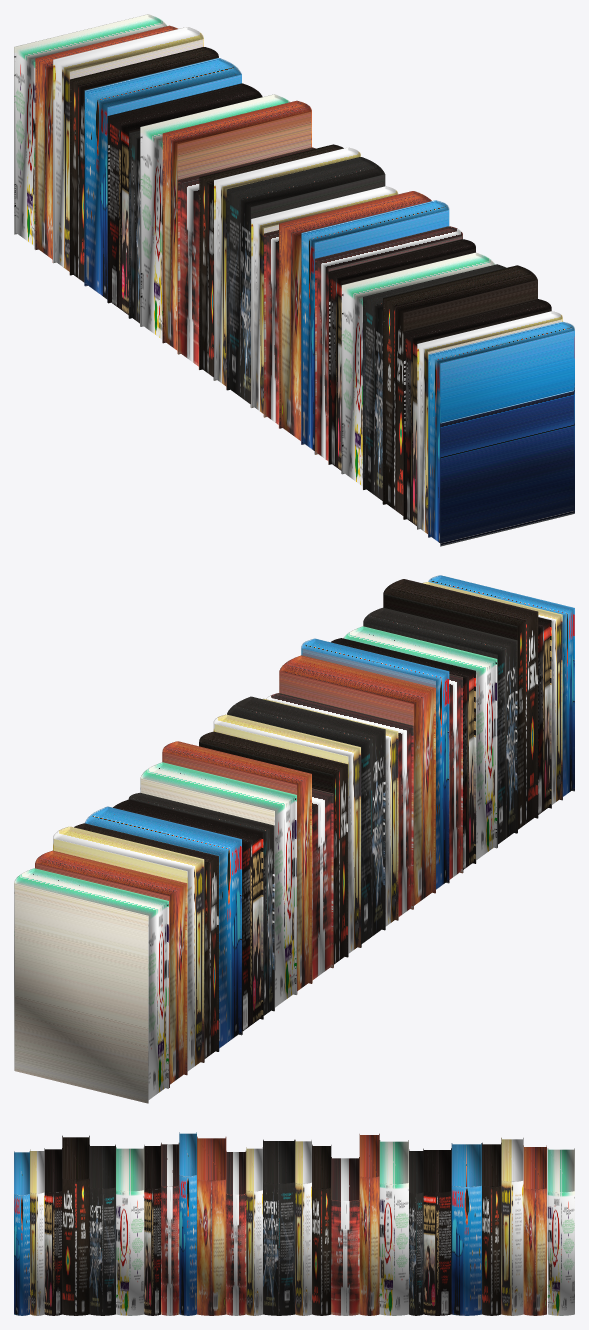
File: Books1.obj
3 views of the same model, one above another, from view 1: azimuth 30°, elevation 25°; view 2: azimuth 150°, elevation 25°; view 3: azimuth 270°, elevation 25° (orthographic). The views are drawn at different scales.
Parts seen in each view (by area): view 1: Rectangle55, Rectangle42, Rectangle61, Rectangle56, Rectangle51, Rectangle49, Rectangle54, Rectangle60, Rectangle48, Rectangle46, Rectangle41, Rectangle59 (+13 smaller); view 2: Rectangle41, Rectangle54, Rectangle59, Rectangle56, Rectangle61, Rectangle51, Rectangle48, Rectangle53, Rectangle64, Rectangle42, Rectangle46, Rectangle43 (+13 smaller); view 3: Rectangle61, Rectangle54, Rectangle51, Rectangle59, Rectangle56, Rectangle46, Rectangle60, Rectangle41, Rectangle53, Rectangle45, Rectangle48, Rectangle64 (+13 smaller).
Boxes of the visible parts, bbox=[...] form: Rectangle55: bbox=[428, 321, 574, 546]; Rectangle42: bbox=[162, 100, 311, 353]; Rectangle61: bbox=[226, 157, 385, 407]; Rectangle56: bbox=[383, 265, 537, 519]; Rectangle51: bbox=[84, 58, 241, 302]; Rectangle49: bbox=[301, 200, 449, 454]; Rectangle54: bbox=[279, 191, 431, 444]; Rectangle60: bbox=[107, 83, 262, 317]; Rectangle48: bbox=[53, 27, 203, 274]; Rectangle46: bbox=[341, 252, 495, 489]; Rectangle41: bbox=[14, 14, 167, 249]; Rectangle59: bbox=[140, 94, 290, 342]; Rectangle41: bbox=[14, 868, 168, 1103]; Rectangle54: bbox=[279, 655, 435, 908]; Rectangle59: bbox=[140, 762, 296, 1010]; Rectangle56: bbox=[383, 579, 538, 832]; Rectangle61: bbox=[227, 696, 385, 947]; Rectangle51: bbox=[85, 806, 241, 1051]; Rectangle48: bbox=[53, 826, 204, 1074]; Rectangle53: bbox=[363, 607, 517, 847]; Rectangle64: bbox=[35, 850, 187, 1087]; Rectangle42: bbox=[162, 741, 311, 994]; Rectangle46: bbox=[343, 626, 497, 863]; Rectangle43: bbox=[199, 731, 348, 967]; Rectangle61: bbox=[263, 1139, 295, 1315]; Rectangle54: bbox=[197, 1136, 226, 1315]; Rectangle51: bbox=[451, 1143, 481, 1315]; Rectangle59: bbox=[379, 1140, 408, 1315]; Rectangle56: bbox=[62, 1135, 89, 1315]; Rectangle46: bbox=[116, 1147, 144, 1315]; Rectangle60: bbox=[423, 1148, 451, 1315]; Rectangle41: bbox=[547, 1148, 574, 1315]; Rectangle53: bbox=[89, 1144, 115, 1315]; Rectangle45: bbox=[331, 1157, 359, 1315]; Rectangle48: bbox=[501, 1137, 523, 1315]; Rectangle64: bbox=[523, 1145, 546, 1315].
Size of the model in its own units: 5.47 by 8.01 by 29.23.
